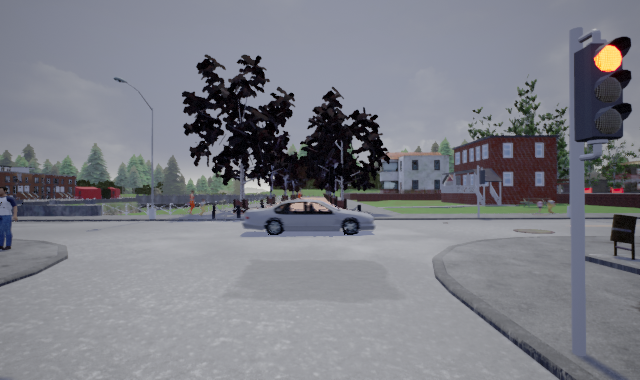pedestrian: (1, 184, 19, 253), (184, 189, 197, 215), (541, 195, 558, 214), (195, 196, 209, 216), (533, 198, 545, 213)
vehicle: (238, 199, 377, 237)
